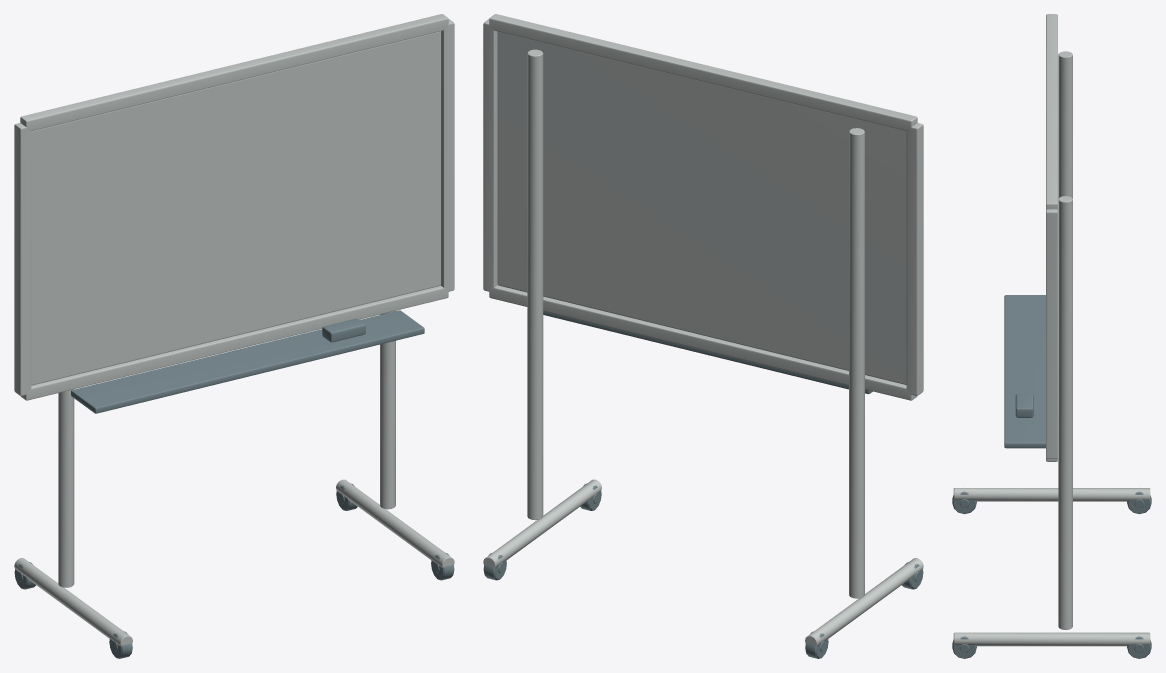
The model's file is whiteboard.glb.
The picture shows the model from 3 angles, left to right: view 1: azimuth 30°, elevation 25°; view 2: azimuth 150°, elevation 25°; view 3: azimuth 270°, elevation 25°; orthographic projection. The views are drawn at different scales.
Visible parts, largest first — view 1: writing_surface, marker_tray, board_frame_rail.001, board_frame_rail, board_frame_side, board_frame_side.001, board_upright, board_upright.001, rolling_base, rolling_base.001, eraser; view 2: writing_surface, board_upright.001, board_frame_rail.001, board_upright, board_frame_rail, board_frame_side, board_frame_side.001, rolling_base.001, rolling_base, marker_tray; view 3: board_upright.001, marker_tray, board_frame_side.001, rolling_base.001, rolling_base, board_frame_rail.001, board_upright, eraser.
Boxes of the visible parts, x1,y1,x2,y2 form: writing_surface: [31, 31, 440, 385]; marker_tray: [71, 310, 424, 413]; board_frame_rail.001: [20, 14, 448, 130]; board_frame_rail: [20, 285, 448, 400]; board_frame_side: [14, 123, 31, 395]; board_frame_side.001: [440, 19, 454, 291]; board_upright: [58, 389, 74, 587]; board_upright.001: [380, 310, 395, 509]; rolling_base: [14, 558, 132, 646]; rolling_base.001: [336, 479, 454, 568]; eraser: [322, 318, 365, 342]; writing_surface: [497, 31, 906, 384]; board_upright.001: [527, 49, 543, 520]; board_frame_rail.001: [489, 14, 917, 130]; board_upright: [849, 128, 864, 598]; board_frame_rail: [489, 285, 917, 400]; board_frame_side: [906, 123, 923, 395]; board_frame_side.001: [483, 19, 497, 291]; rolling_base.001: [483, 479, 601, 568]; rolling_base: [805, 558, 923, 646]; marker_tray: [543, 311, 872, 394]; board_upright.001: [1058, 196, 1072, 629]; marker_tray: [1004, 295, 1045, 448]; board_frame_side.001: [1046, 209, 1057, 458]; rolling_base.001: [953, 632, 1150, 646]; rolling_base: [953, 488, 1150, 501]; board_frame_rail.001: [1046, 14, 1057, 209]; board_upright: [1058, 51, 1072, 198]; eraser: [1015, 393, 1033, 417].
Bounding box in the file's own units: 1.69 × 1.92 × 0.73.
